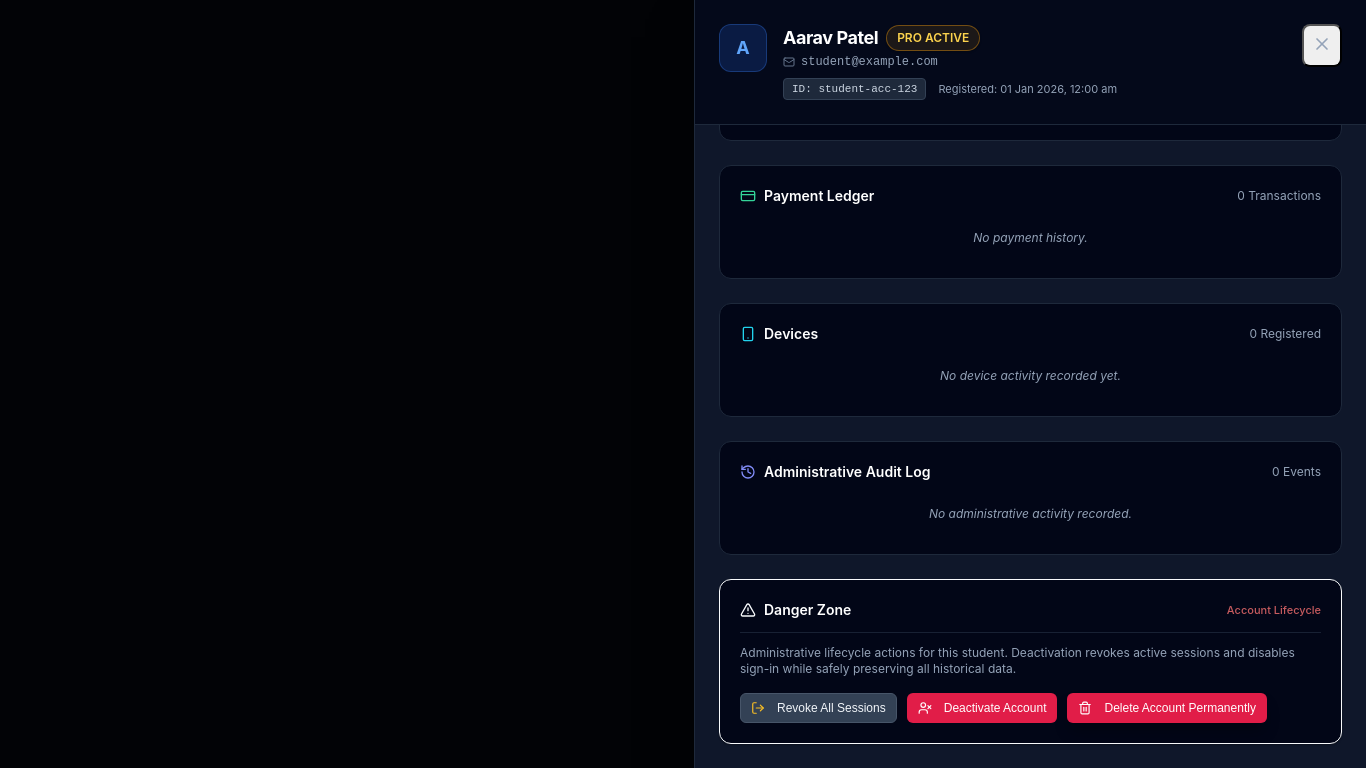
Student Account Lifecycle Modals & Danger Zone Tests › 7. Danger Zone Button Opens Corresponding Modal › clicking Delete Account Permanently opens DeleteAccountModal
The image size is (1366, 768).
(page scrolled)
Click the button "Delete Account Permanently" at (1167, 708), box [1068,693,1267,723]
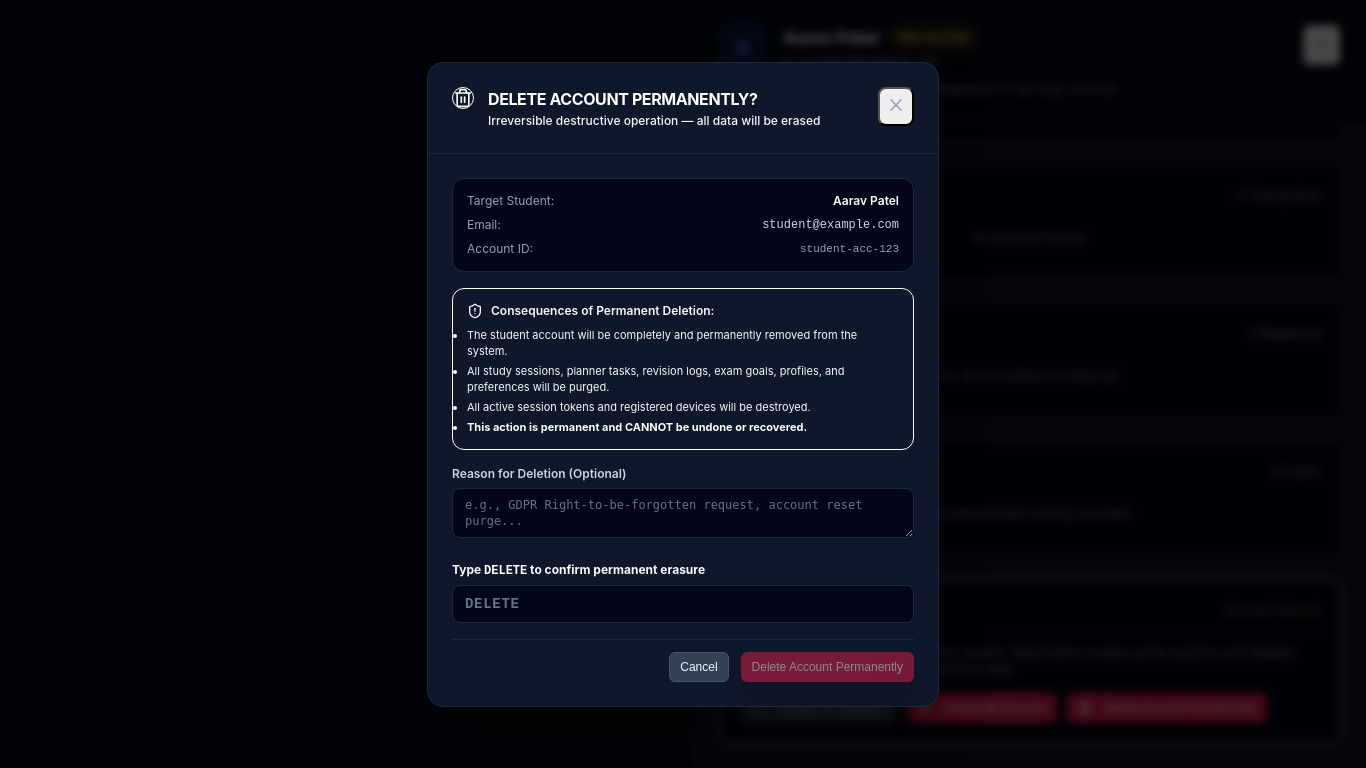
expect the heading "DELETE ACCOUNT PERMANENTLY?" is shown: met, box [488,88,758,108]
